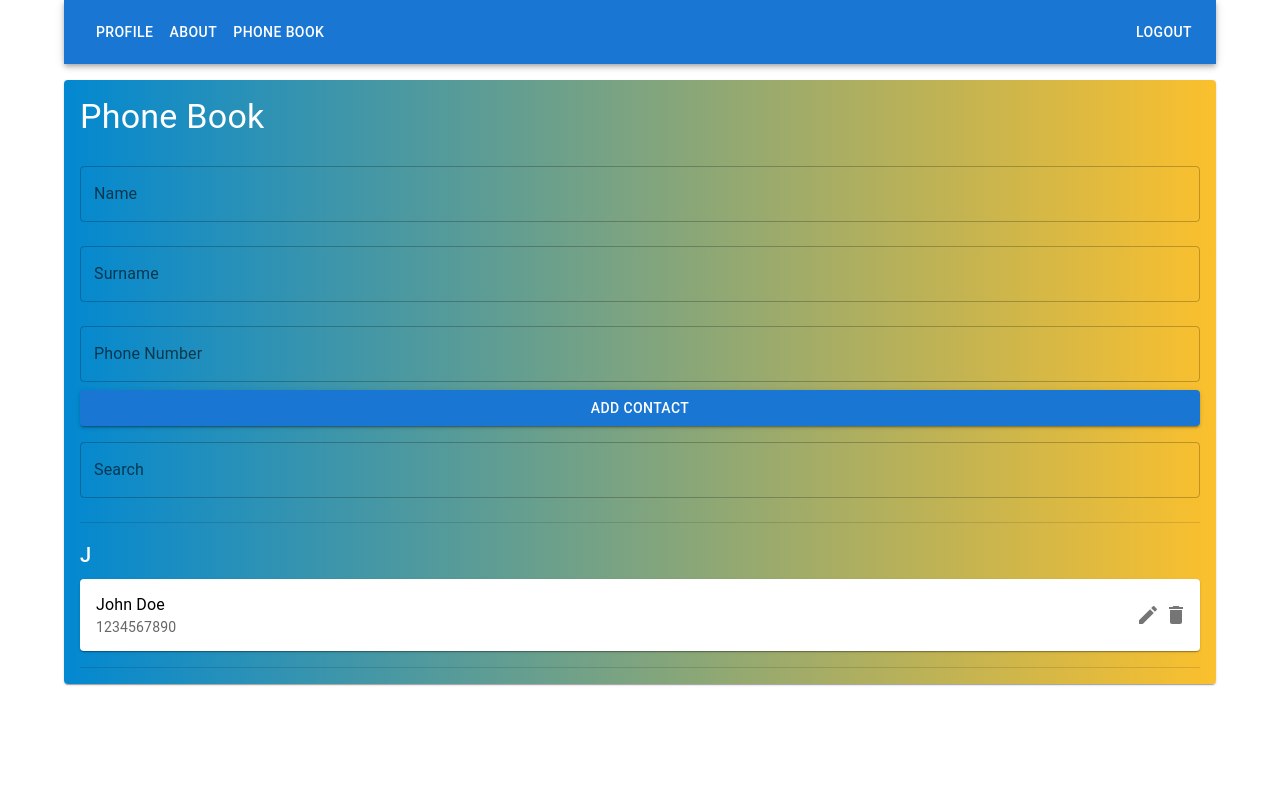
Test: PhoneBookPage › edits a contact
Click the button with test id "edit-button-1" at (1148, 615), box [1128,595,1168,635]
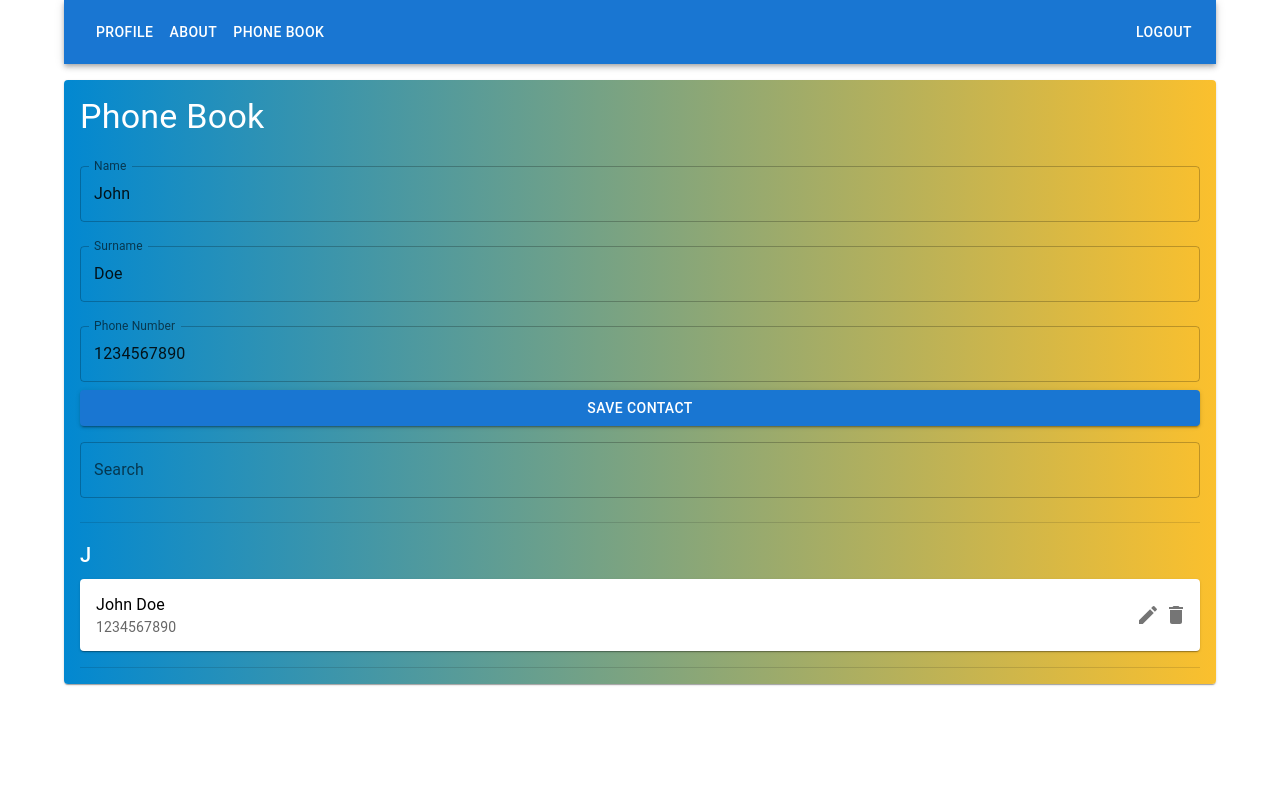
Replace the text in the field with test id "name-input" with "Jane" at (640, 194), box [80,166,1200,222]
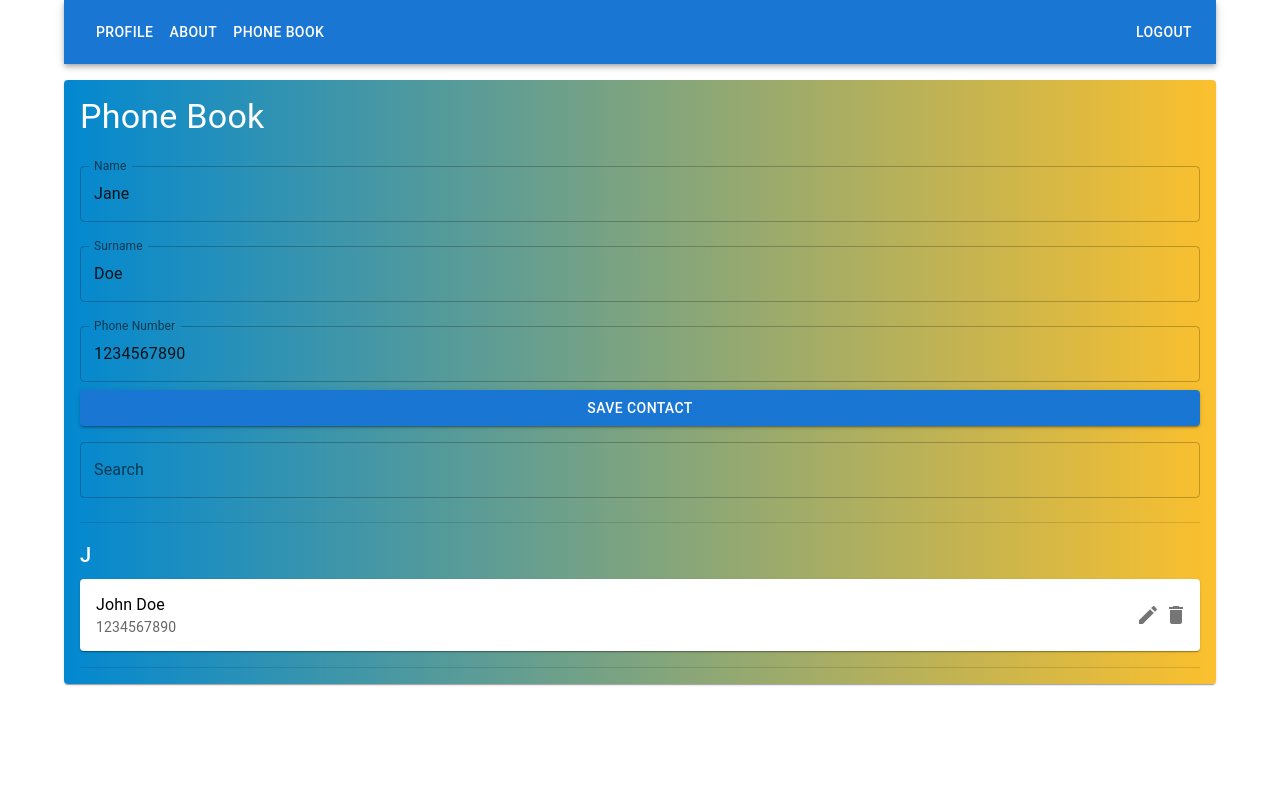
Replace the text in the field with test id "surname-input" with "Smith" at (640, 274), box [80,246,1200,302]
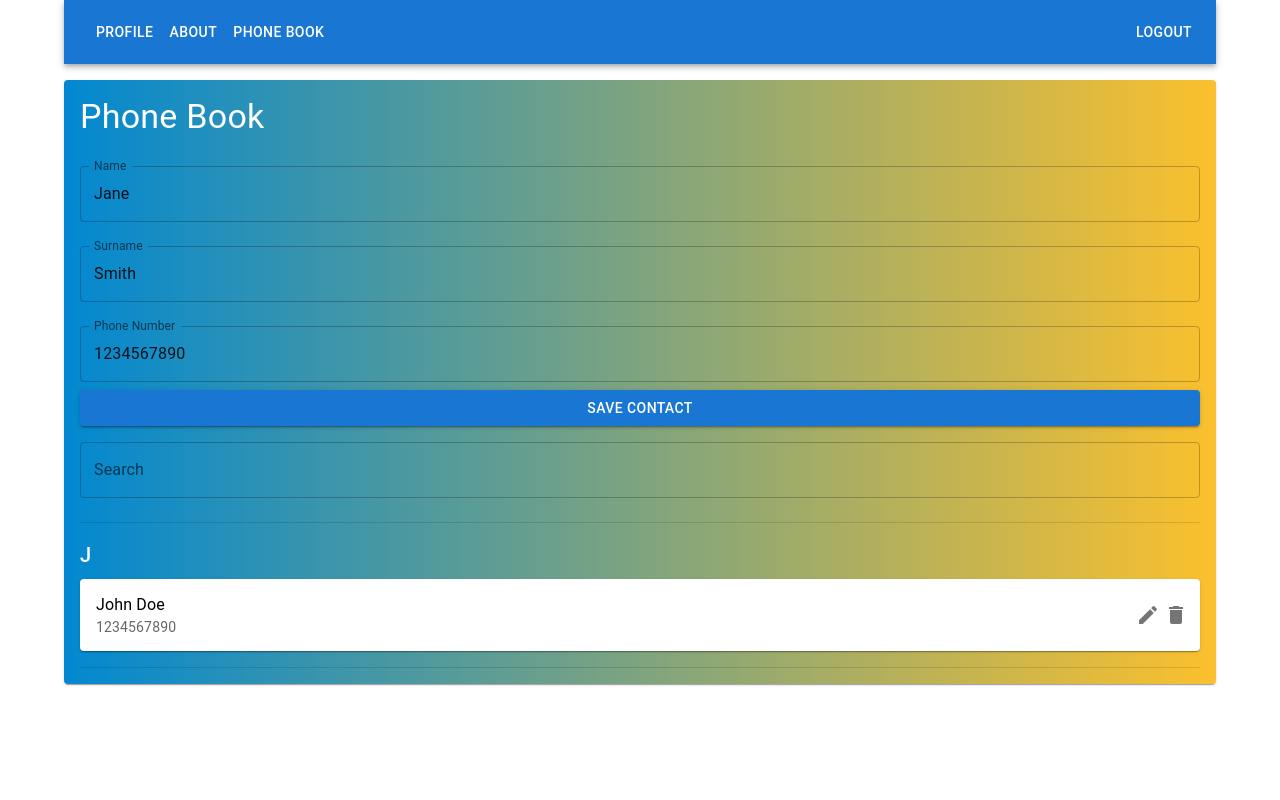
Replace the text in the field with test id "phone-input" with "0987654321" at (640, 354), box [80,326,1200,382]
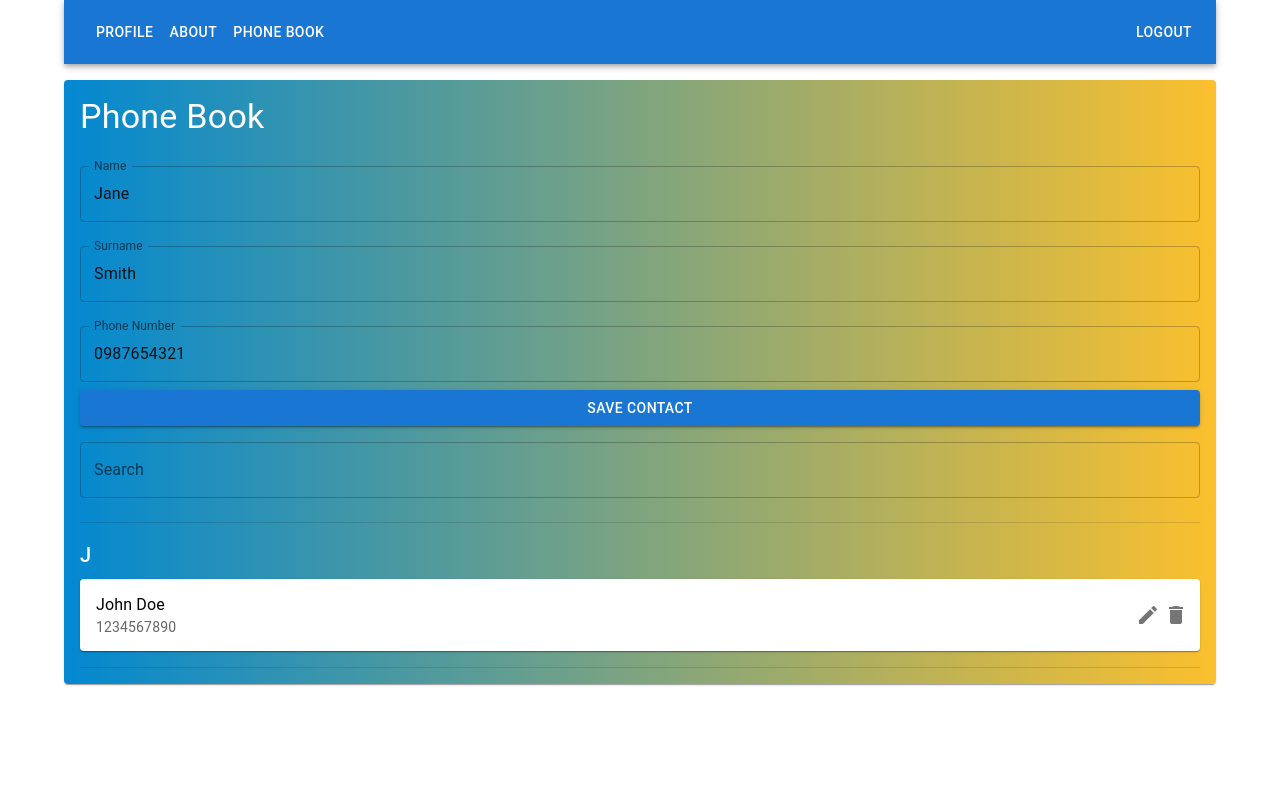
Click the button with test id "submit-button" at (640, 408), box [80,390,1200,426]
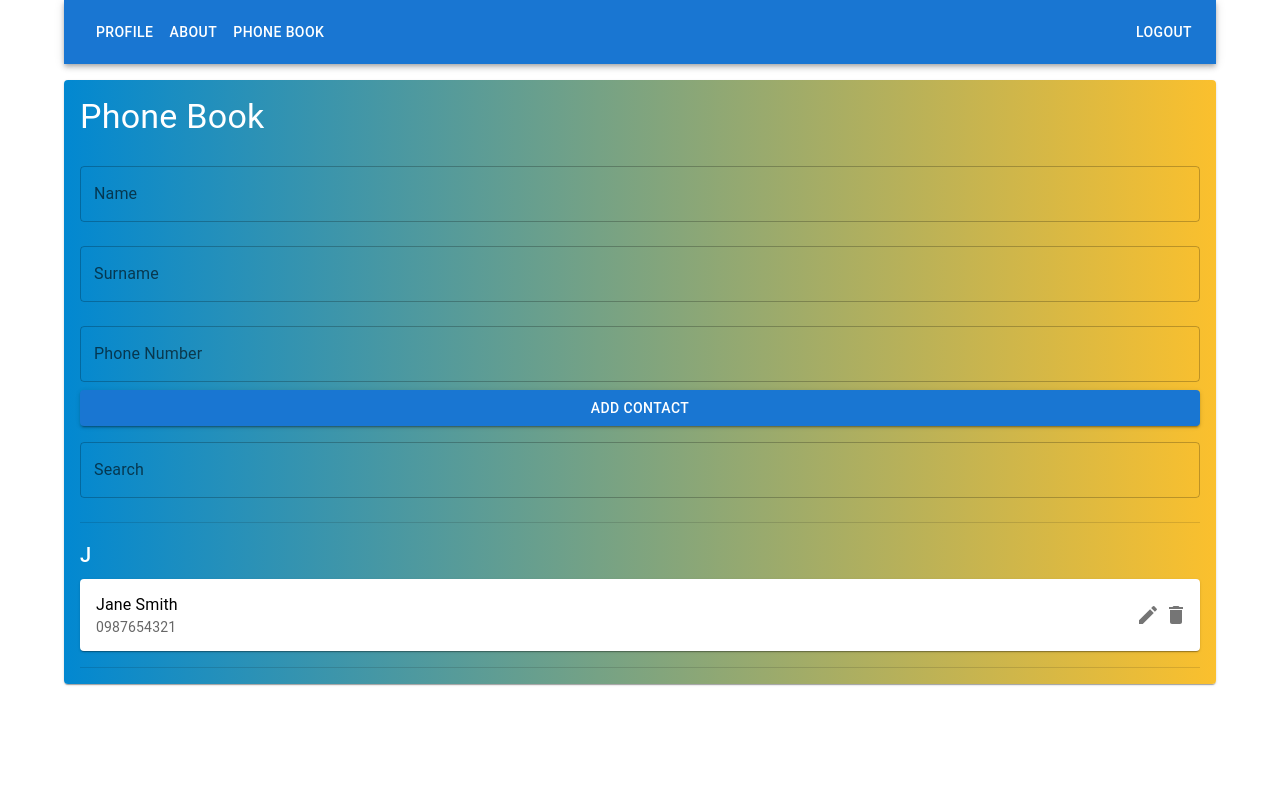
Expected: the text "Jane Smith" is shown, [96,595,178,614]
Expected: the text "0987654321" is shown, [96,619,176,635]
